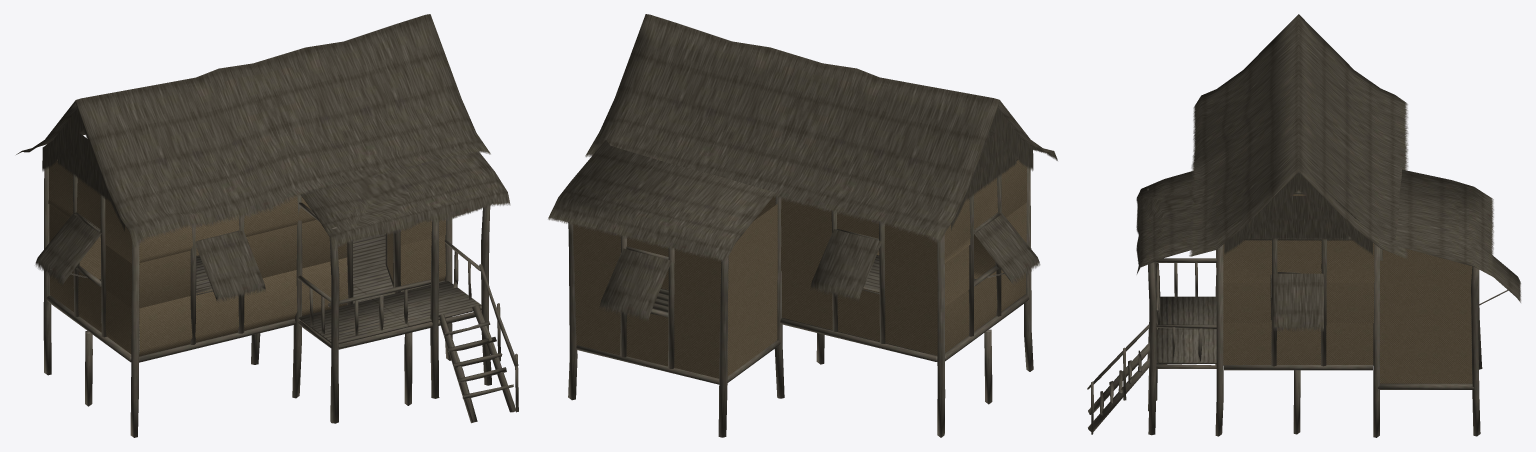
Rendered from nha-tranh.glb.
3 views of the same model, side by side, from view 1: azimuth 30°, elevation 25°; view 2: azimuth 150°, elevation 25°; view 3: azimuth 270°, elevation 25° (orthographic). The views are drawn at different scales.
Parts seen in each view (by area): view 1: atap_house; view 2: atap_house; view 3: atap_house.
Boxes of the visible parts, box(x1,y1,x2,y2) form: atap_house: box(16, 14, 518, 437); atap_house: box(548, 14, 1057, 437); atap_house: box(1087, 14, 1521, 437).
Size of the model in its own units: 0.9588 by 0.7056 by 0.9984.
1 material, 1 textured.
